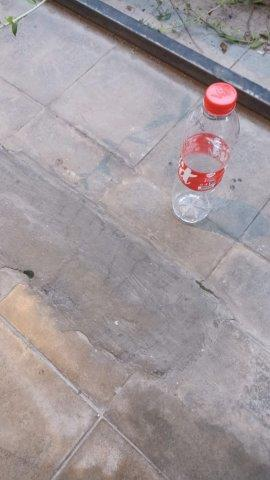botolplastik: (174, 83, 241, 225)
